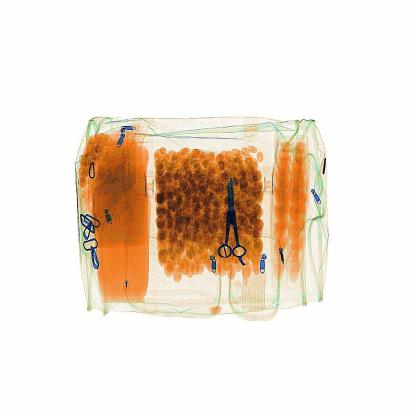gun: (213, 171, 249, 273)
